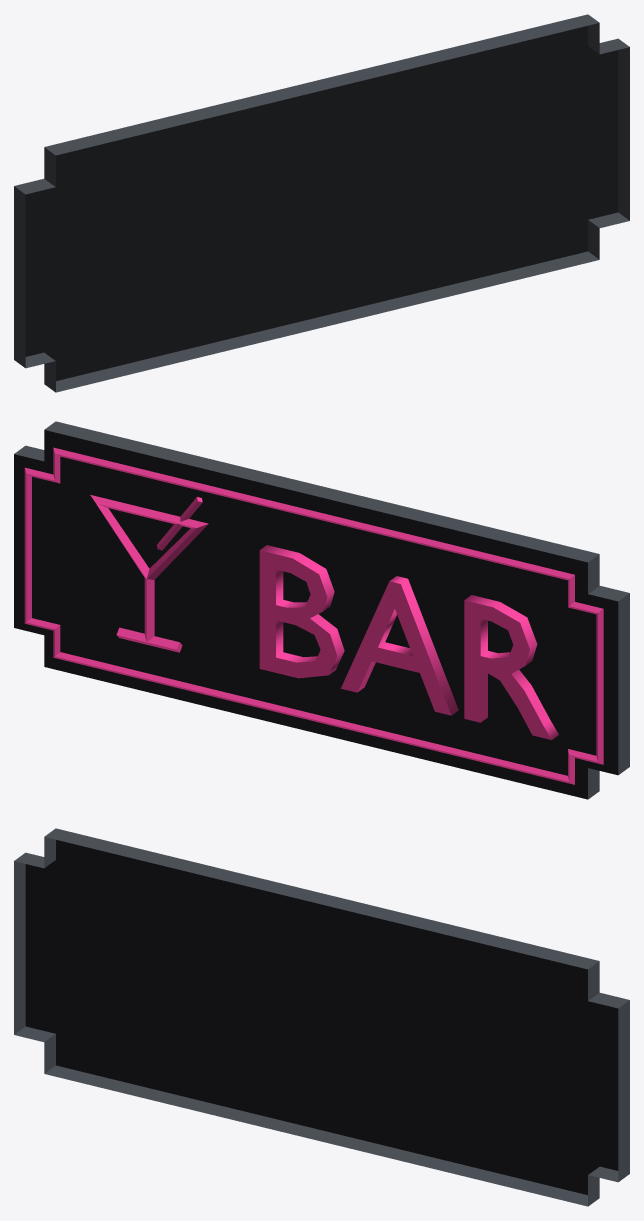
The model's file is sign_bar.glb.
The picture shows the model from 3 angles, top to bottom: view 1: azimuth 30°, elevation 25°; view 2: azimuth 150°, elevation 25°; view 3: azimuth 330°, elevation 25°; orthographic projection.
Visible parts, largest first — view 1: sign_bar__mesh; view 2: sign_bar__mesh; view 3: sign_bar__mesh.
Boxes of the visible parts, x1=… form: sign_bar__mesh: x1=14, y1=14, x2=629, y2=392; sign_bar__mesh: x1=14, y1=421, x2=629, y2=799; sign_bar__mesh: x1=14, y1=828, x2=629, y2=1206.
Size of the model in its own units: 2.4 by 0.9 by 0.13.
Materials: 1 (1 with a texture image).
